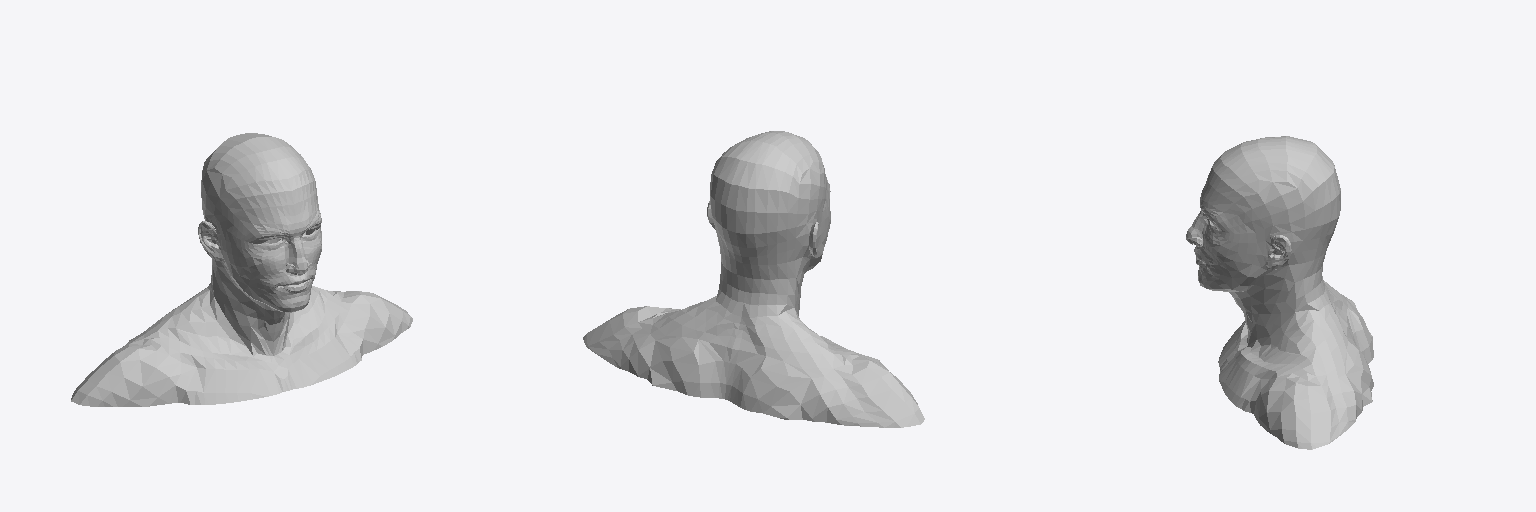
The model's file is Body.obj.
3 renders of one model, left to right at view 1: azimuth 30°, elevation 25°; view 2: azimuth 150°, elevation 25°; view 3: azimuth 270°, elevation 25°, orthographic.
Visible parts, largest first — view 1: mmGroup0; view 2: mmGroup0; view 3: mmGroup0.
Part boxes in pixels (x1,y1,x2,y2): mmGroup0: (71, 133, 412, 406); mmGroup0: (583, 131, 924, 427); mmGroup0: (1186, 136, 1373, 449).
Size of the model in its own units: 1.35 by 0.8803 by 0.6515.